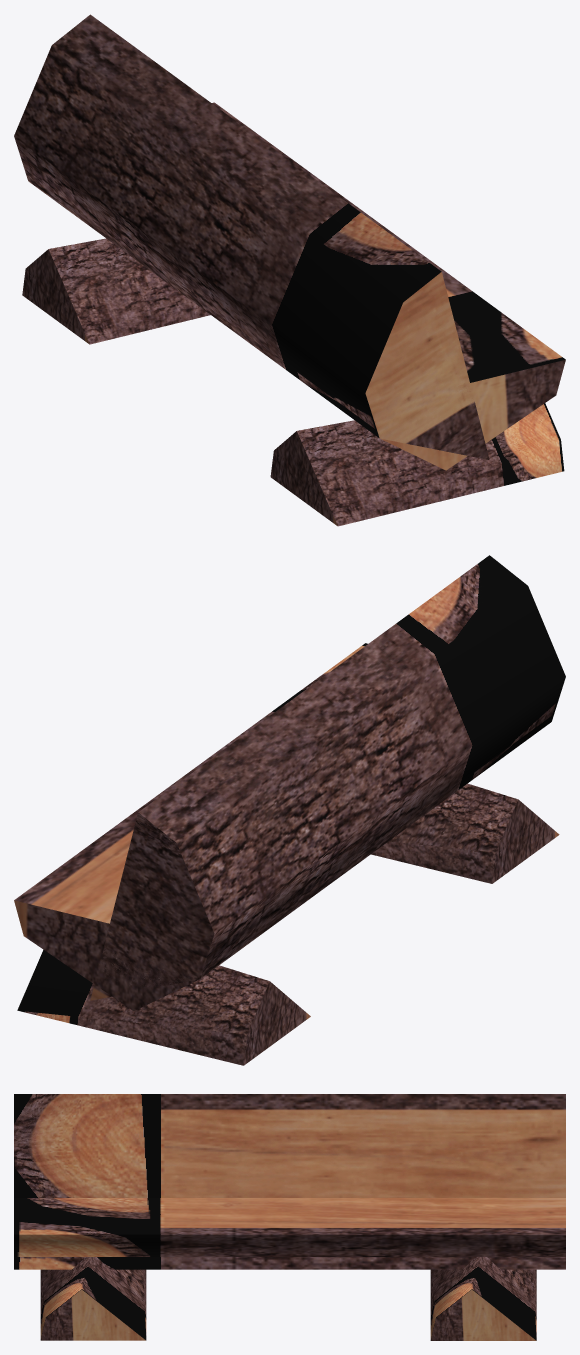
The model's file is bench_LOD1.fbx.
3 views of the same model, one above another, from view 1: azimuth 30°, elevation 25°; view 2: azimuth 150°, elevation 25°; view 3: azimuth 270°, elevation 25° (orthographic). The views are drawn at different scales.
Visible parts, largest first — view 1: fogueira002; view 2: fogueira002; view 3: fogueira002.
Part boxes in pixels (left/top/right/bottom): fogueira002: left=14, top=14, right=565, bottom=526; fogueira002: left=14, top=555, right=565, bottom=1065; fogueira002: left=14, top=1094, right=565, bottom=1340.
Size of the model in its own units: 16.22 by 16.83 by 43.57.
